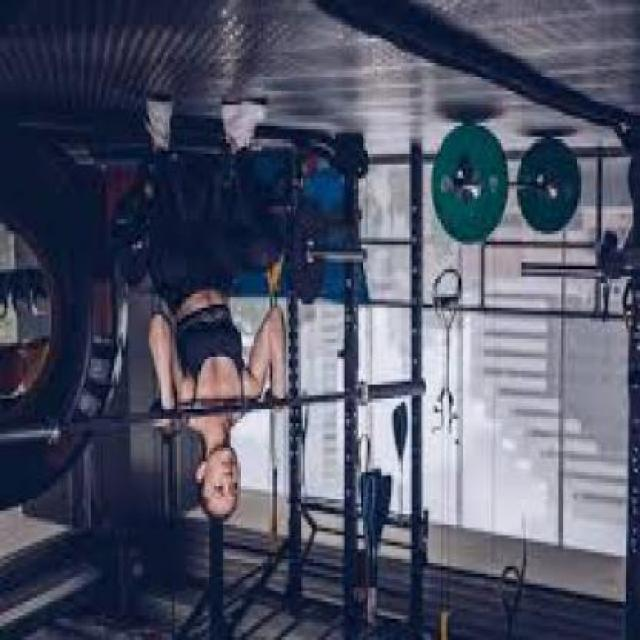Barbell: (412, 378, 434, 402)
